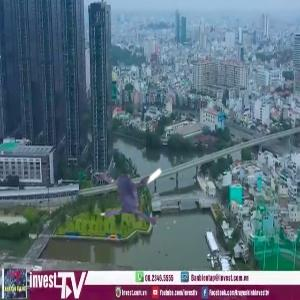drone: (84, 129, 204, 249)
